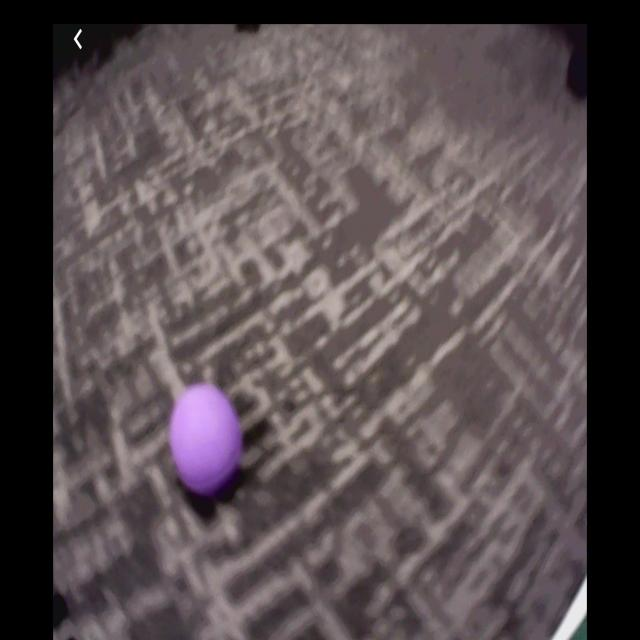ball: (174, 385, 240, 492)
